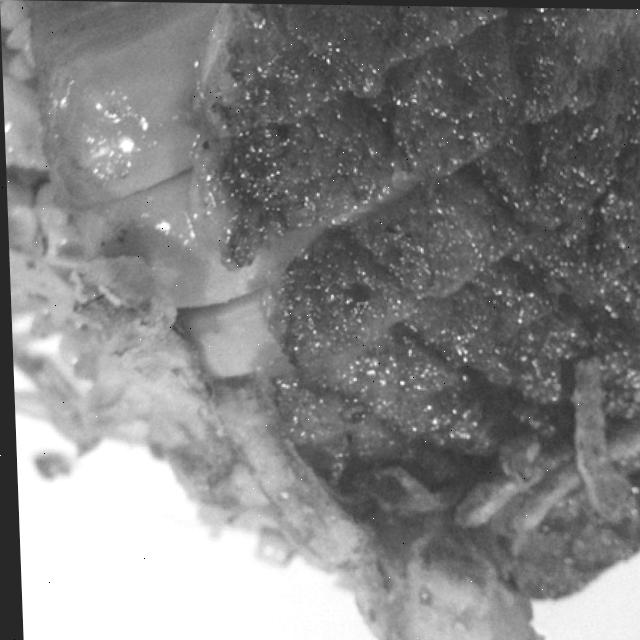烧串烤肉: (0, 1, 640, 600)
